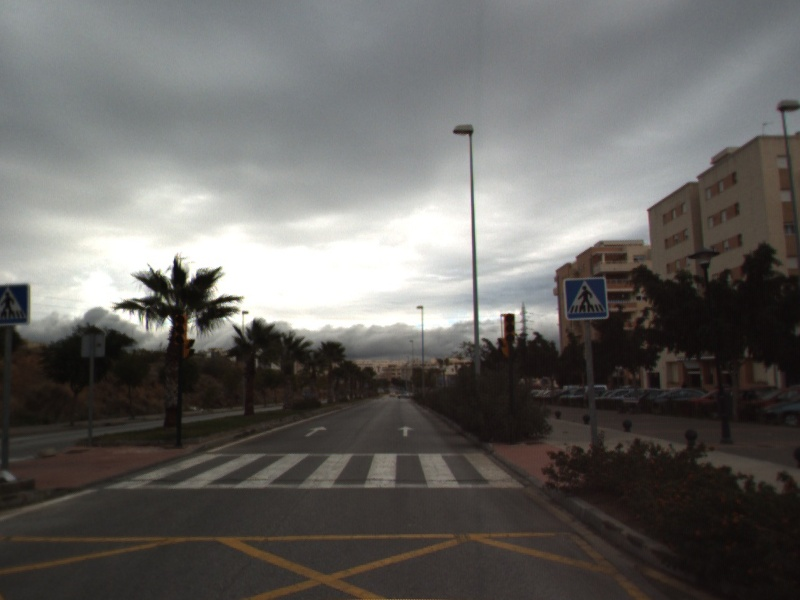STRAIGHT: (303, 424, 329, 438), (396, 423, 416, 438)
